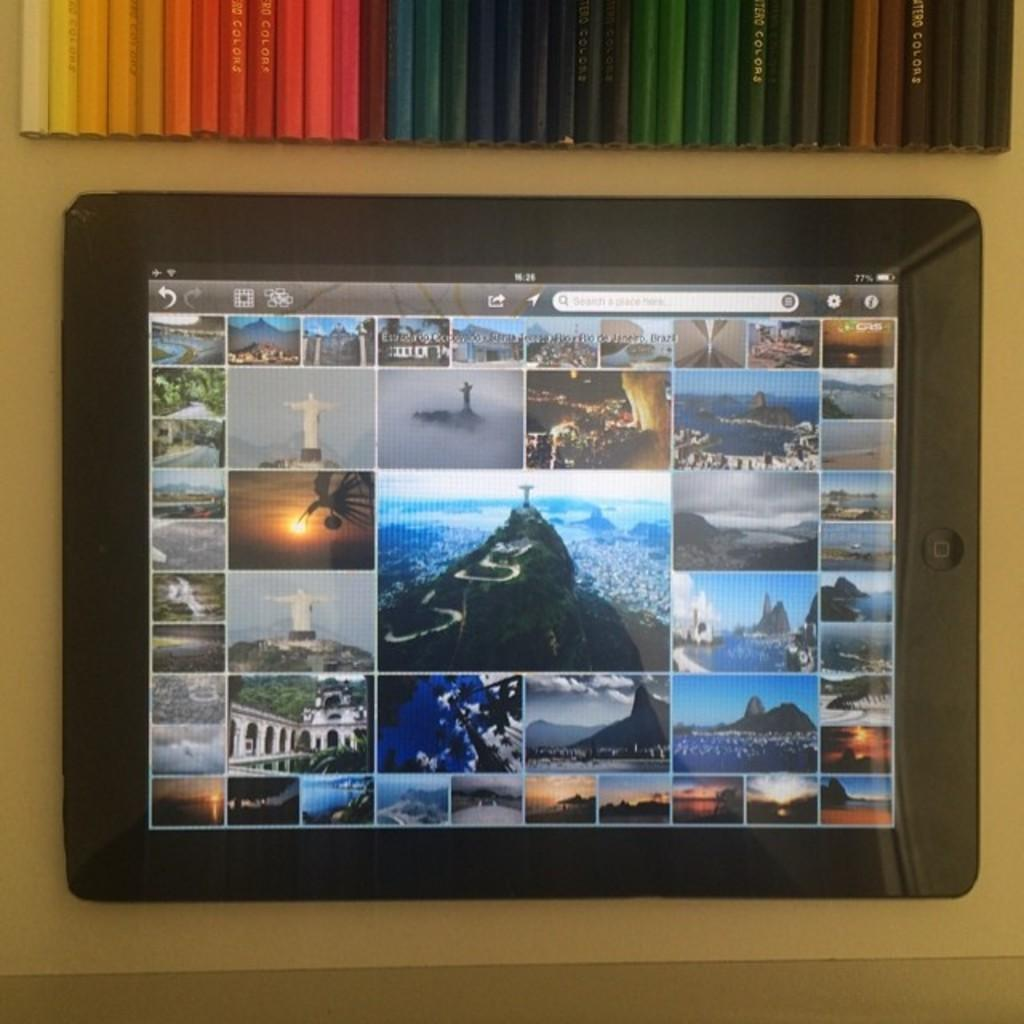Computer-monitor: (46, 197, 1022, 926)
